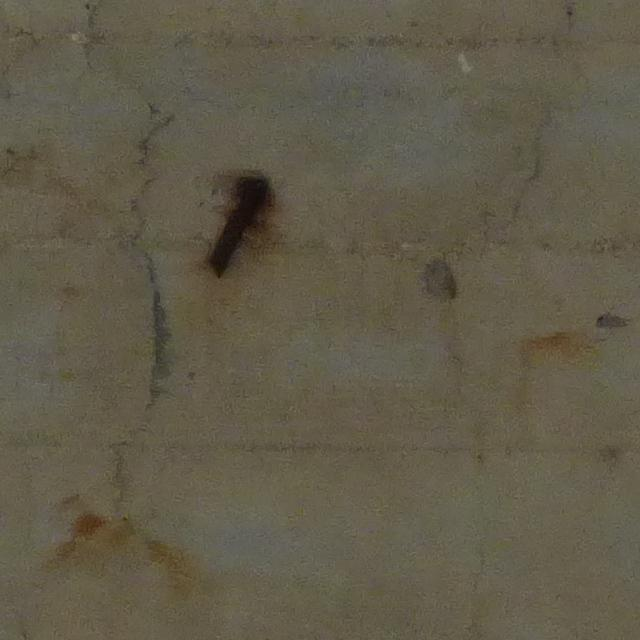Rust: (208, 171, 270, 277)
